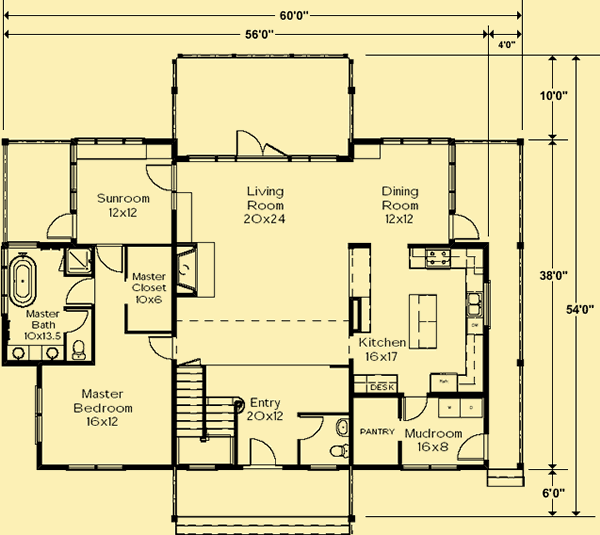door: (449, 430, 496, 464), (232, 126, 268, 165), (245, 435, 280, 471), (445, 208, 482, 241), (143, 161, 179, 194), (43, 209, 81, 240), (65, 277, 100, 309), (95, 239, 125, 276), (143, 333, 180, 361), (293, 410, 325, 442), (401, 391, 431, 423), (59, 308, 92, 335)
kitchen bar: (402, 290, 449, 353)
large sink: (64, 337, 93, 364), (326, 441, 357, 459)
small sink: (6, 344, 65, 363), (332, 416, 352, 441)
stairs: (170, 358, 244, 468)
tub: (7, 250, 39, 310)
windows: (74, 132, 150, 150), (66, 136, 81, 214), (29, 381, 45, 448), (447, 138, 461, 214), (379, 133, 453, 146), (401, 459, 464, 474), (283, 149, 342, 164), (65, 461, 128, 475), (480, 278, 496, 330), (184, 151, 238, 165), (6, 237, 40, 252), (183, 460, 220, 472), (308, 461, 341, 474)
